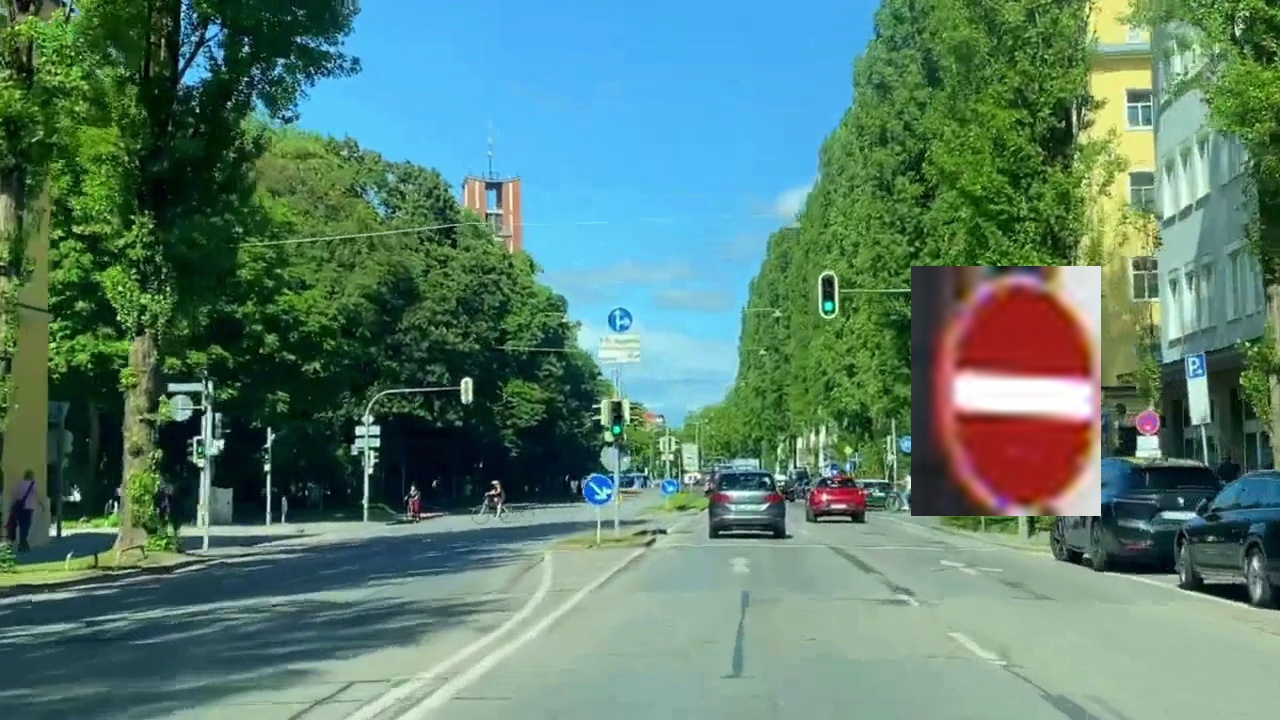No entry: (911, 266, 1101, 516)
